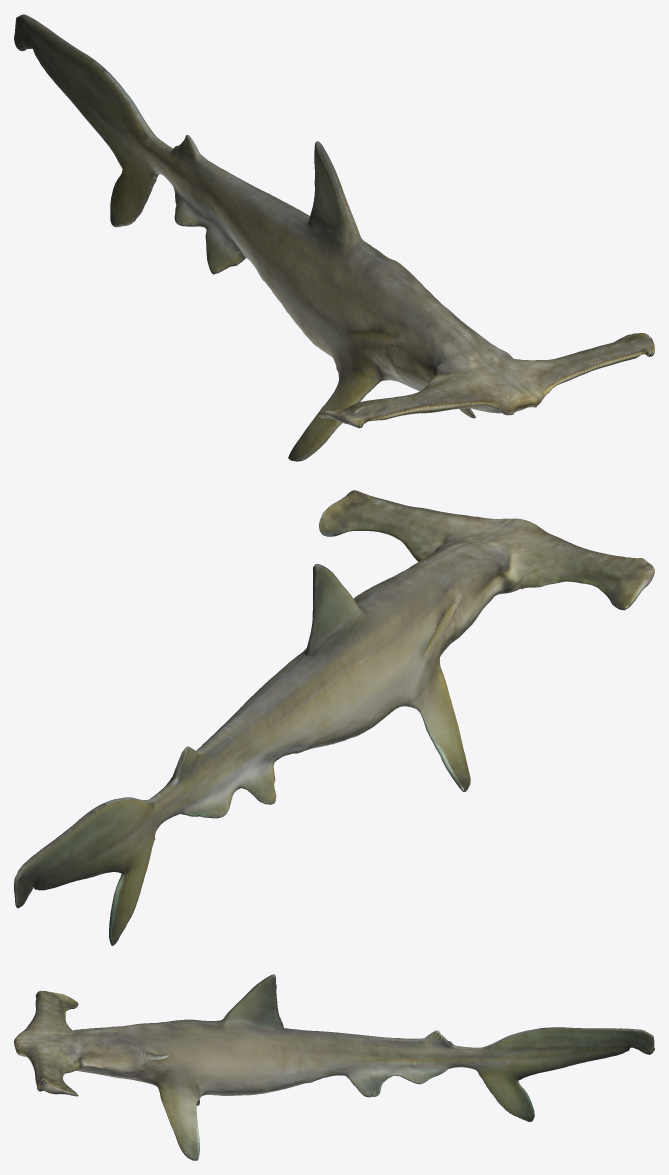
The model's file is Tiburon_Martillo_0710220541_texture.fbx.
3 renders of one model, top to bottom at view 1: azimuth 30°, elevation 25°; view 2: azimuth 150°, elevation 25°; view 3: azimuth 270°, elevation 25°, orthographic. The views are drawn at different scales.
Parts seen in each view (by area): view 1: Mesh_0.018; view 2: Mesh_0.018; view 3: Mesh_0.018.
Part boxes in pixels (x1,y1,x2,y2): Mesh_0.018: (14, 14, 654, 461); Mesh_0.018: (14, 490, 654, 945); Mesh_0.018: (14, 974, 654, 1160).
Bounding box in the file's own units: 71.78 × 54.2 × 199.
Materials: 1 (1 with a texture image).
